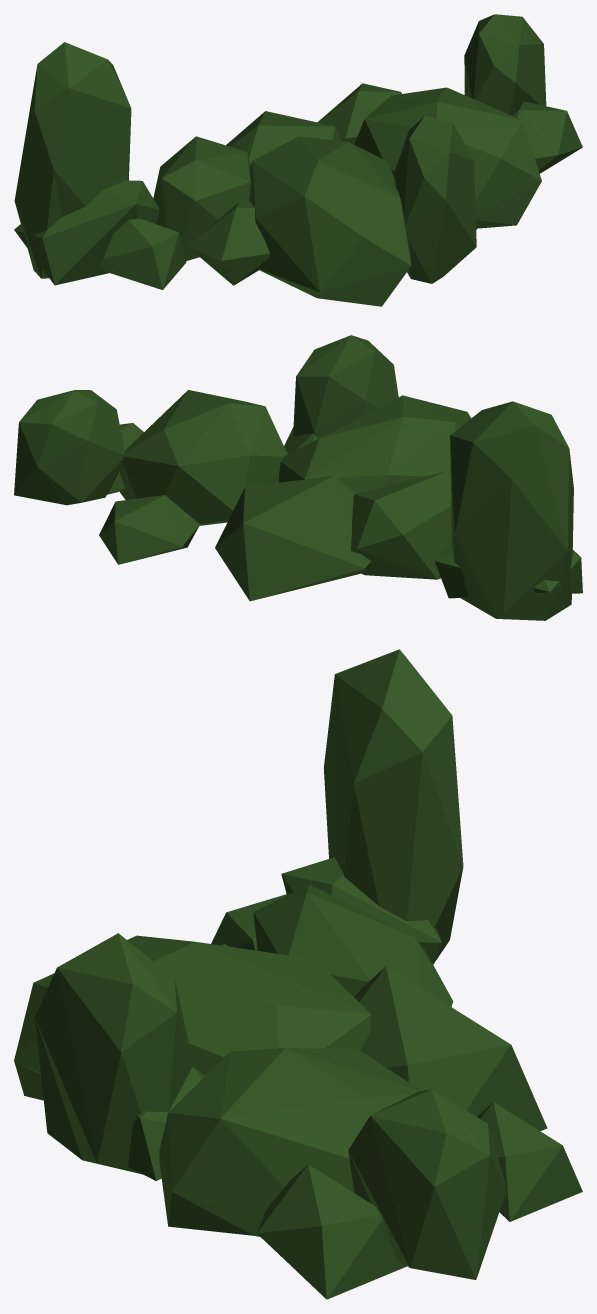
The model's file is SM_bushes_batch_01.fbx.
3 views of the same model, one above another, from view 1: azimuth 30°, elevation 25°; view 2: azimuth 150°, elevation 25°; view 3: azimuth 270°, elevation 25° (orthographic). The views are drawn at different scales.
Parts seen in each view (by area): view 1: Object137; view 2: Object137; view 3: Object137.
Part boxes in pixels (x1=…): Object137: x1=14, y1=14, x2=582, y2=306; Object137: x1=14, y1=335, x2=582, y2=620; Object137: x1=14, y1=649, x2=582, y2=1299.
Size of the model in its own units: 268 by 109 by 167.
